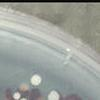white: (29, 72, 42, 88), (46, 88, 61, 100), (11, 90, 21, 100), (18, 97, 28, 100)
